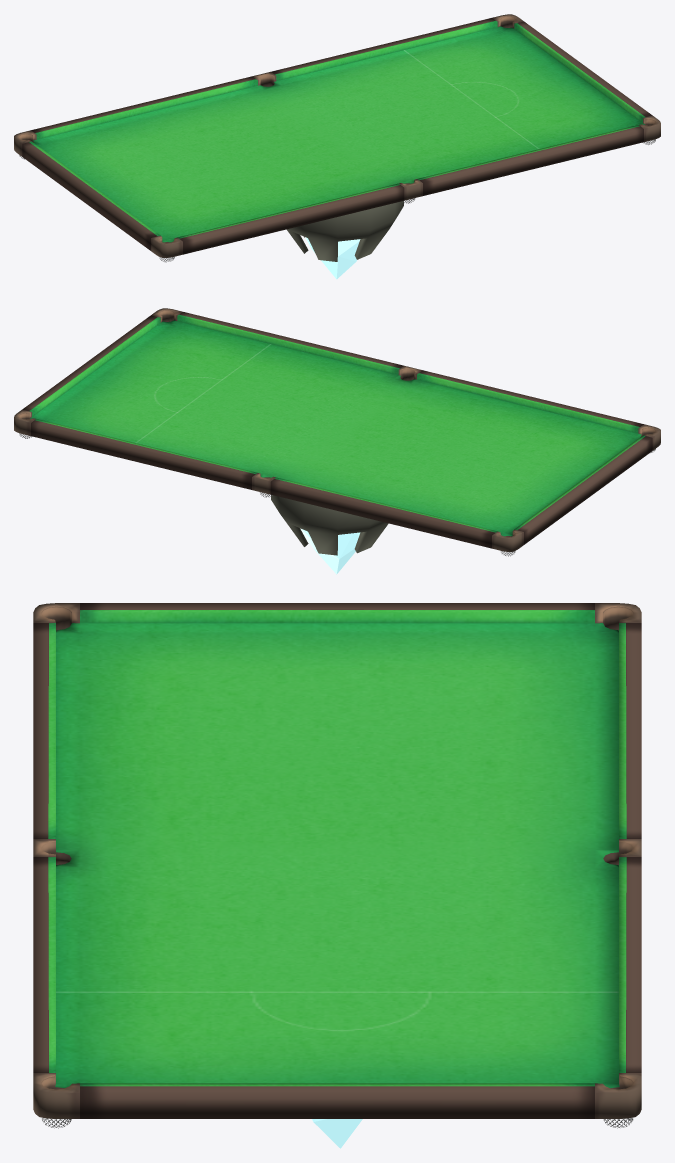
Rendered from table_01.fbx.
3 renders of one model, top to bottom at view 1: azimuth 30°, elevation 25°; view 2: azimuth 150°, elevation 25°; view 3: azimuth 270°, elevation 25°, orthographic. The views are drawn at different scales.
Parts seen in each view (by area): view 1: table01, table_crystal01, crystal001; view 2: table01, table_crystal01, crystal001; view 3: table01, crystal001.
Boxes of the visible parts, x1=… form: table01: x1=14, y1=14, x2=660, y2=262; table_crystal01: x1=286, y1=201, x2=403, y2=261; crystal001: x1=305, y1=237, x2=360, y2=279; table01: x1=14, y1=308, x2=660, y2=556; table_crystal01: x1=271, y1=495, x2=388, y2=555; crystal001: x1=300, y1=528, x2=360, y2=574; table01: x1=33, y1=603, x2=641, y2=1128; crystal001: x1=311, y1=1119, x2=362, y2=1148.
Size of the model in its own units: 1610 by 461 by 845.
